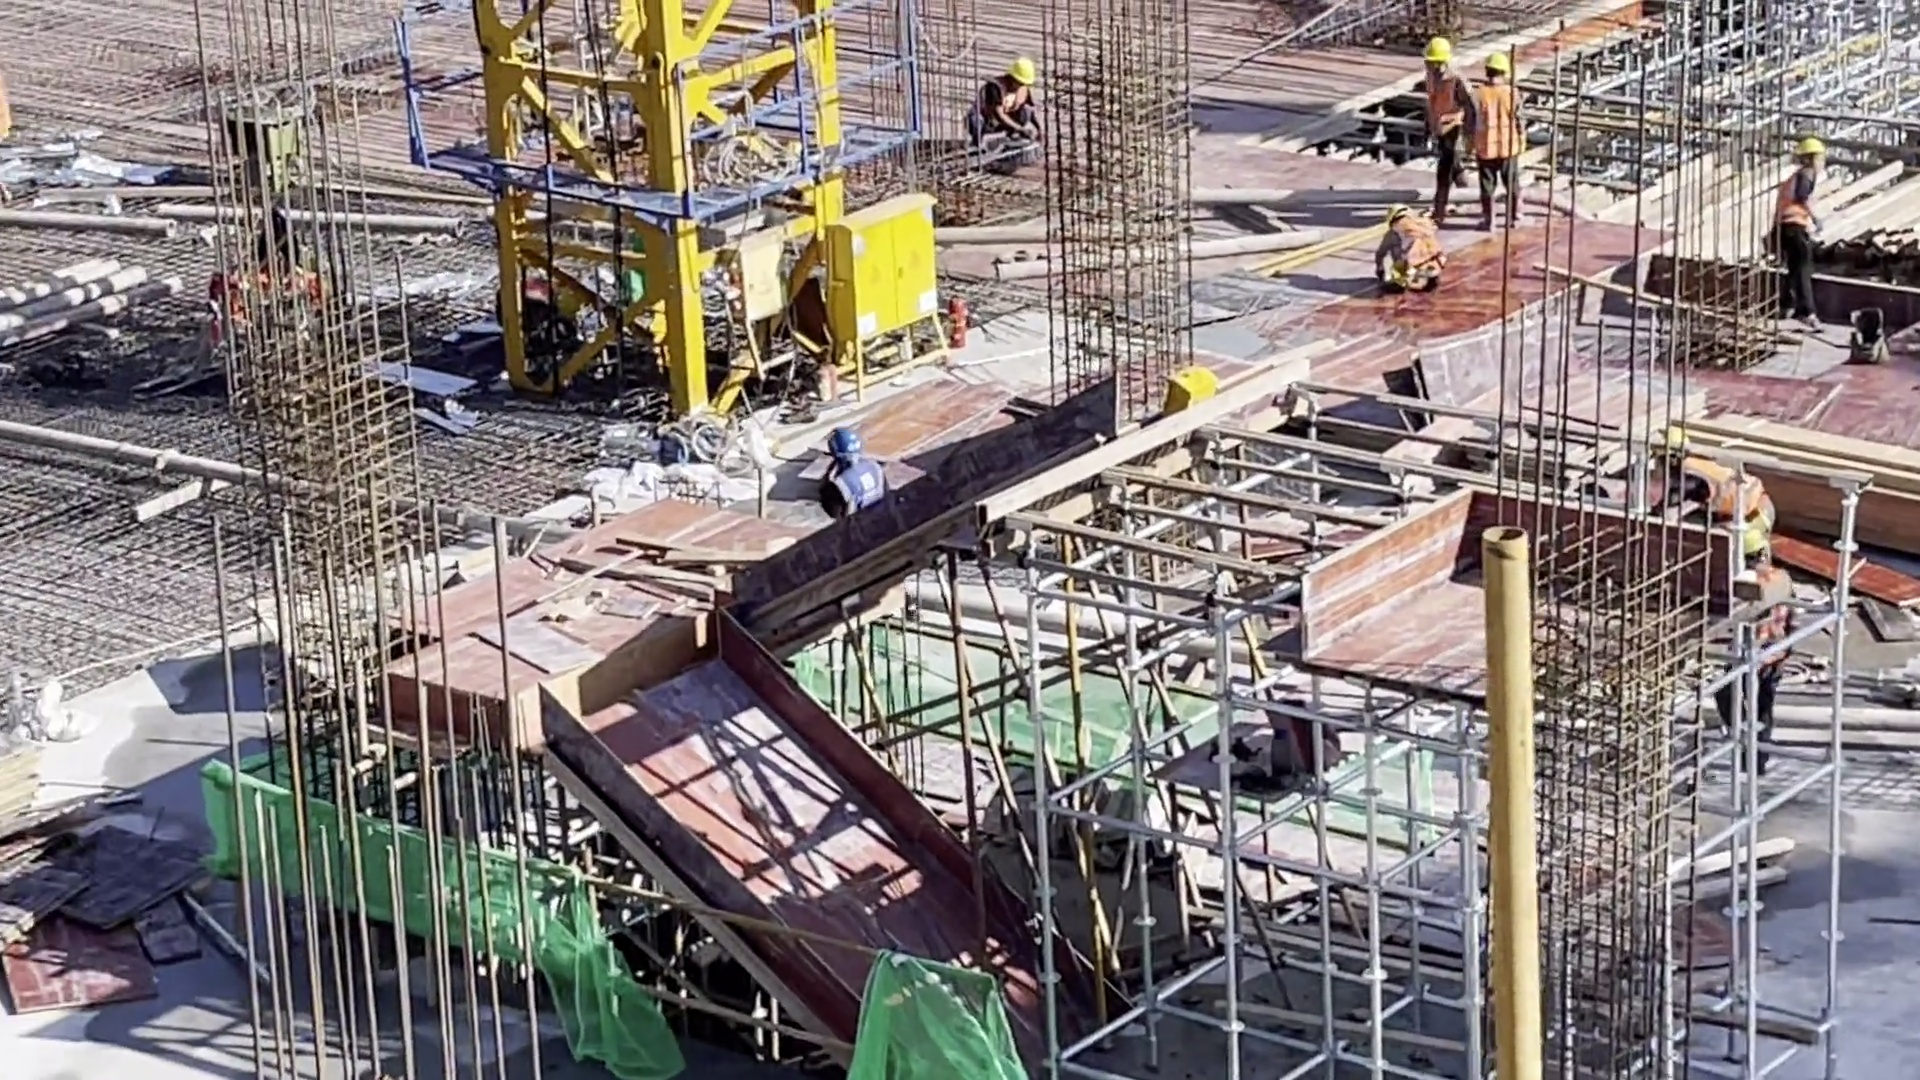helmet: (816, 427, 865, 462), (1650, 426, 1692, 464), (1739, 528, 1768, 562), (1419, 37, 1454, 65), (1007, 56, 1035, 89), (1793, 134, 1827, 162), (1478, 50, 1509, 74)
person: (1651, 426, 1784, 563), (1733, 527, 1787, 772), (1770, 131, 1830, 338), (1462, 51, 1525, 227), (1416, 34, 1469, 225), (958, 51, 1046, 149), (811, 420, 889, 520), (1369, 202, 1449, 290)
vest: (1732, 564, 1792, 677), (1678, 456, 1772, 524), (1466, 83, 1519, 175), (969, 83, 1035, 145), (1415, 70, 1465, 146), (1776, 166, 1826, 242), (1390, 219, 1444, 283), (831, 458, 887, 516)
